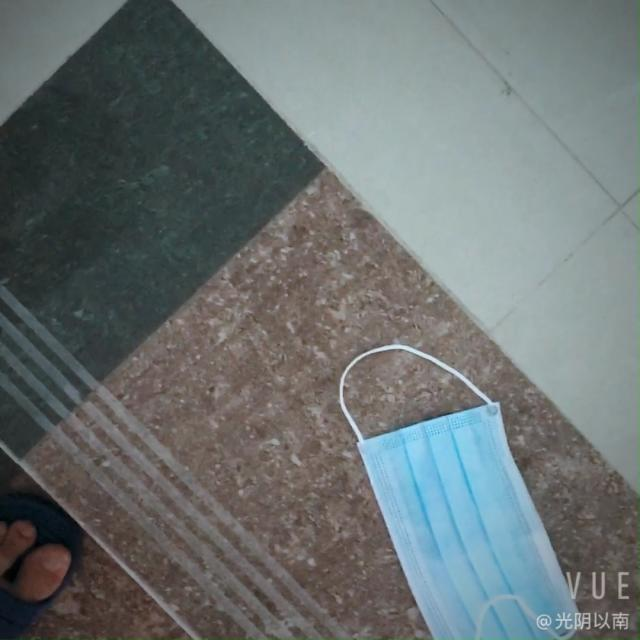face mask: (362, 401, 576, 640)
